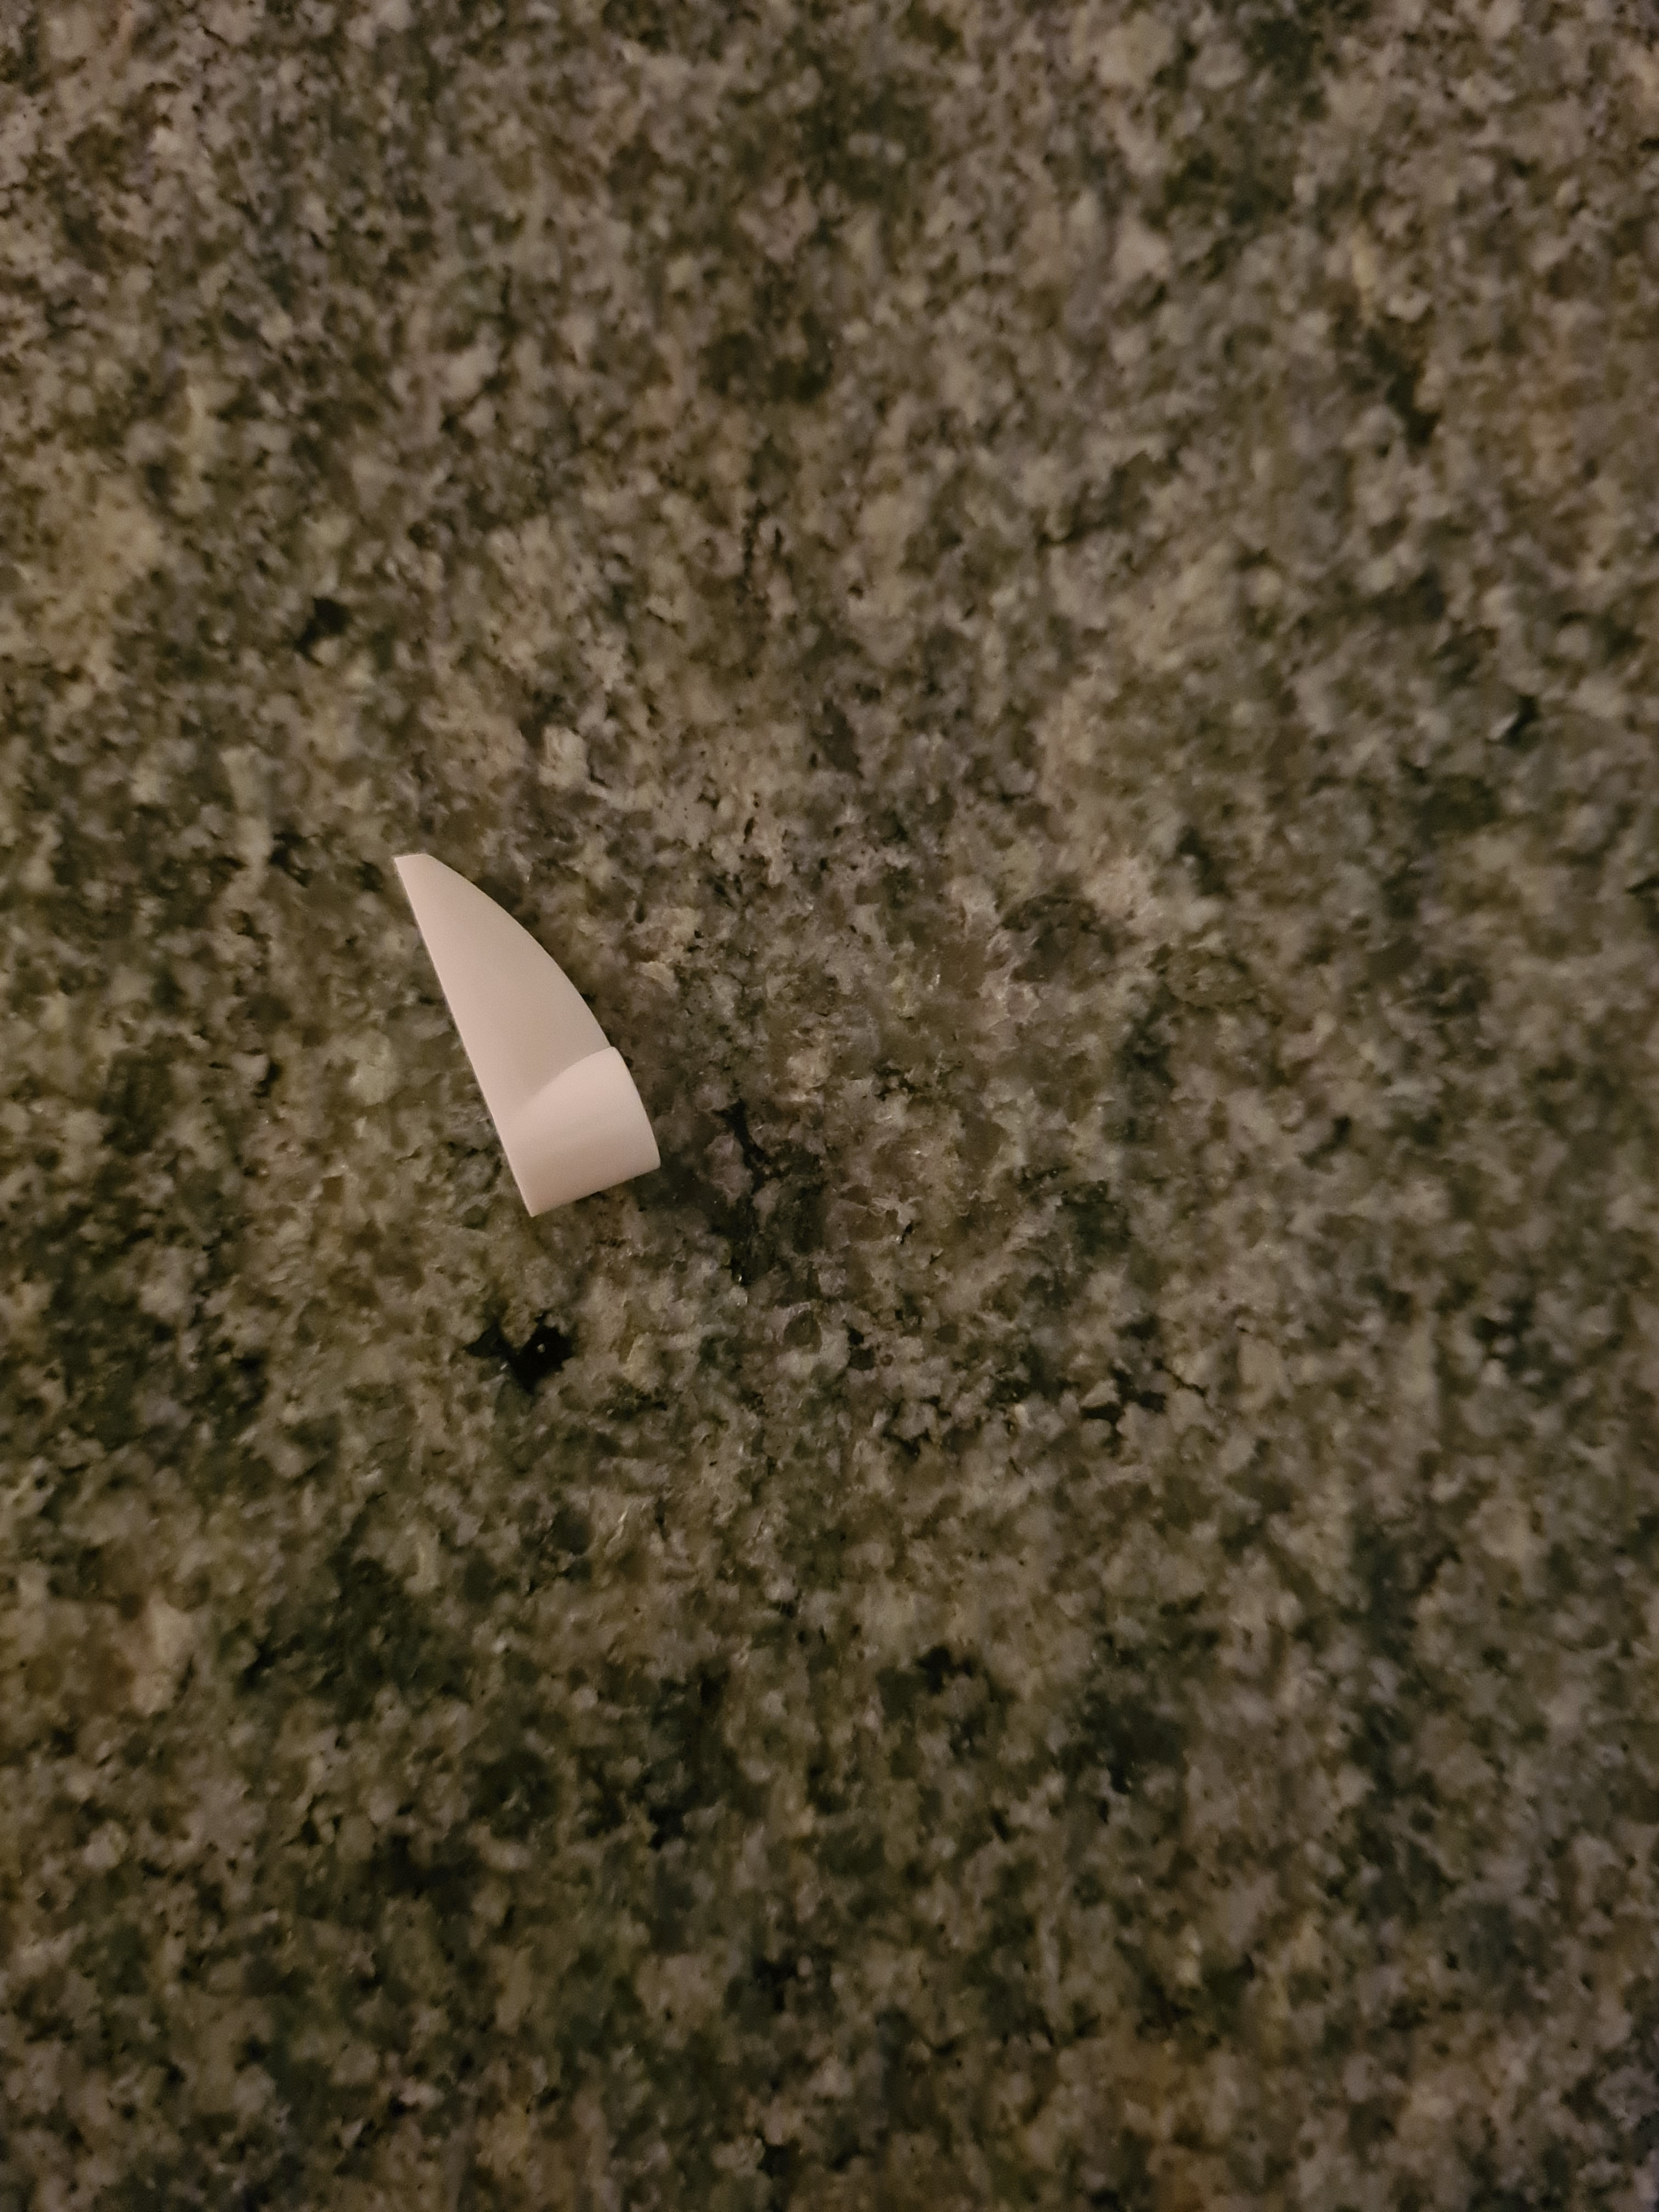Kappe: (387, 850, 685, 1223)
